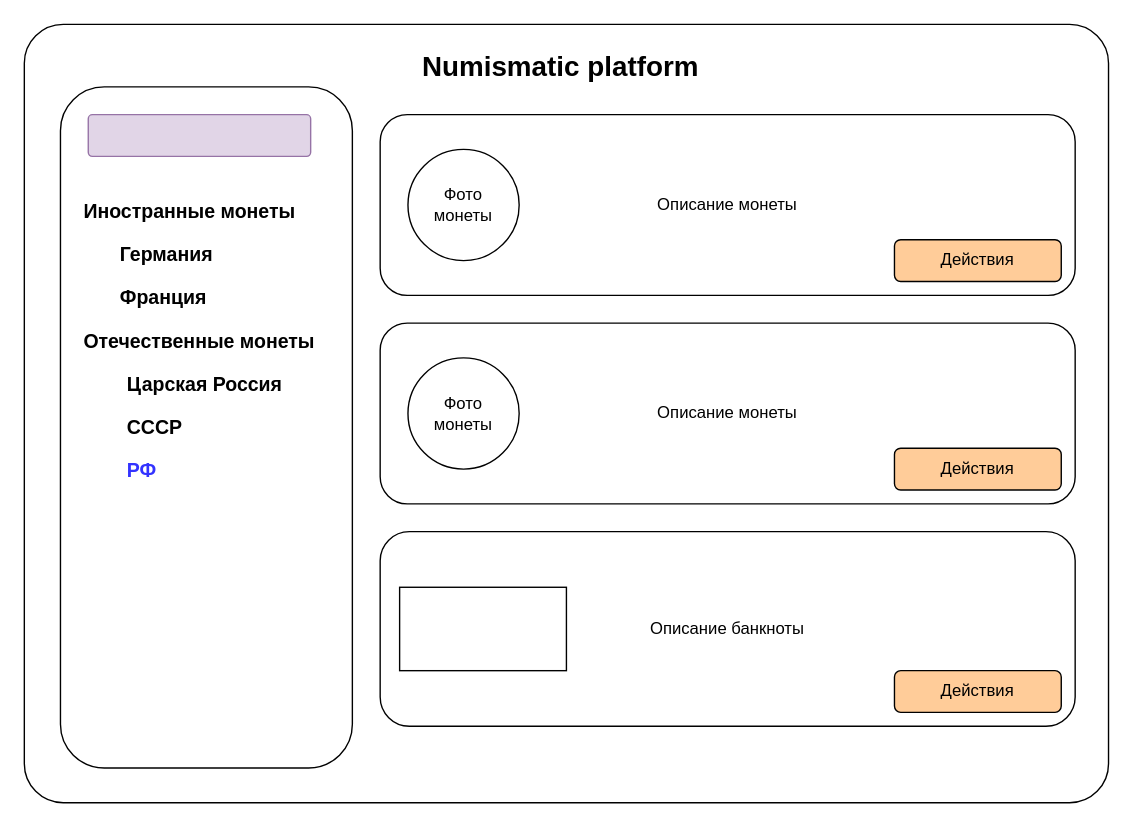
The diagram is 1133 pixels wide and 827 high, and some of its shapes have lost their labels. The shapes that lost their labels are listed below. From the top down, each one's centre as x and y in pixels, then its label:
At point (199, 134): "Разделы".
At point (482, 628): "Фото банкноты".
